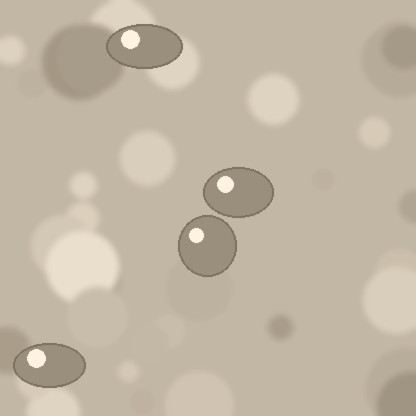gota: (178, 217, 236, 281), (203, 169, 273, 221), (106, 26, 182, 72), (13, 345, 85, 391)
